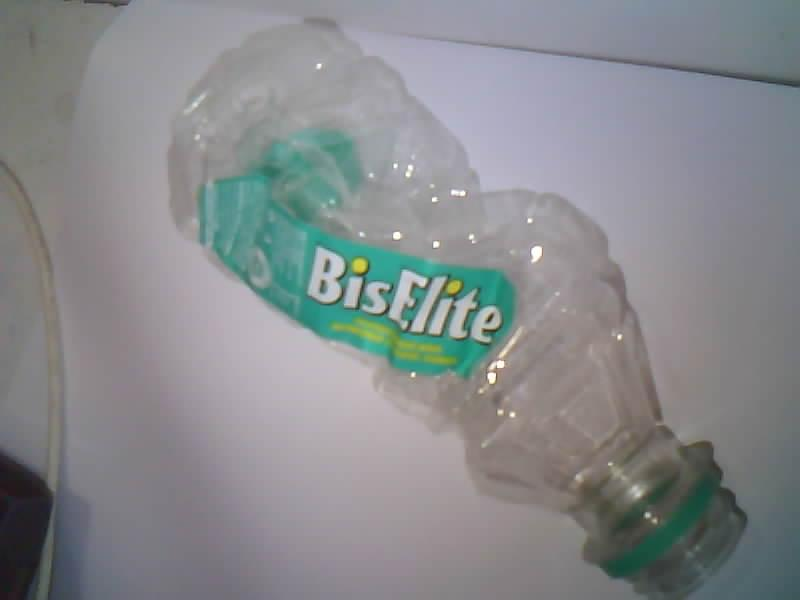non-biodegradable: (168, 25, 745, 599)
